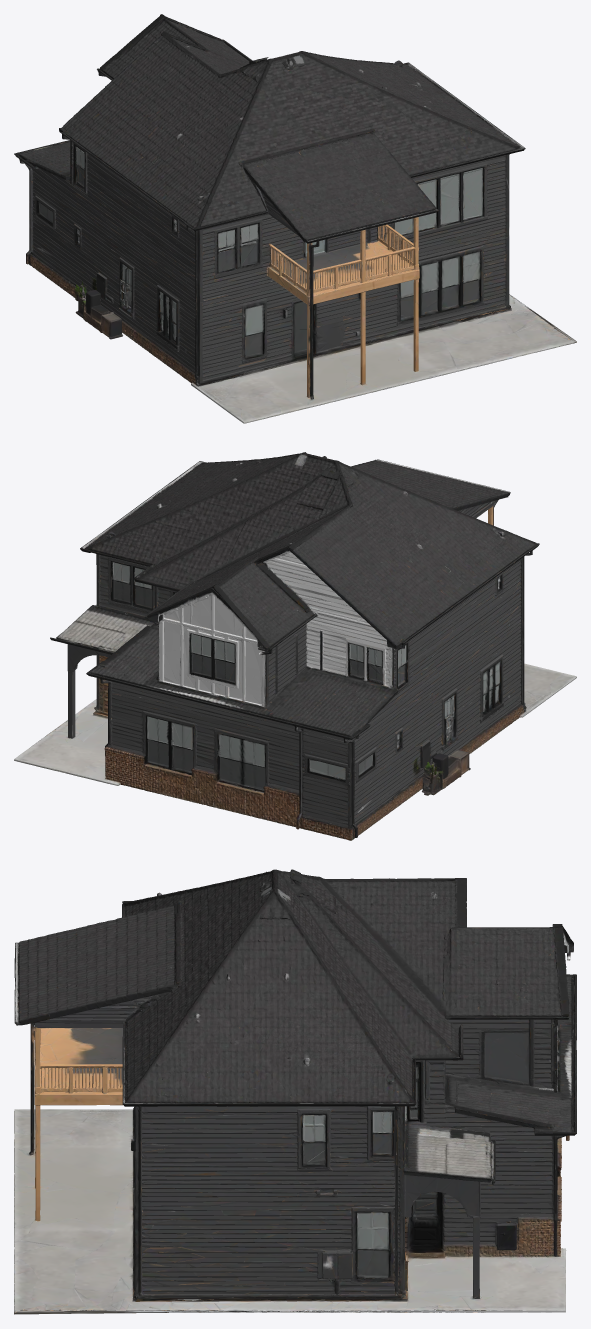
Rendered from dogwood-ext.glb.
3 renders of one model, top to bottom at view 1: azimuth 30°, elevation 25°; view 2: azimuth 150°, elevation 25°; view 3: azimuth 270°, elevation 25°, orthographic. The views are drawn at different scales.
Visible parts, largest first — view 1: geometry_0; view 2: geometry_0; view 3: geometry_0.
Boxes of the visible parts, box(x1,y1,x2,y2) form: geometry_0: box(14, 14, 576, 423); geometry_0: box(14, 452, 576, 840); geometry_0: box(14, 869, 576, 1314).
Bounding box in the file's own units: 11.32 × 8 × 12.68.
Materials: 1 (1 with a texture image).
